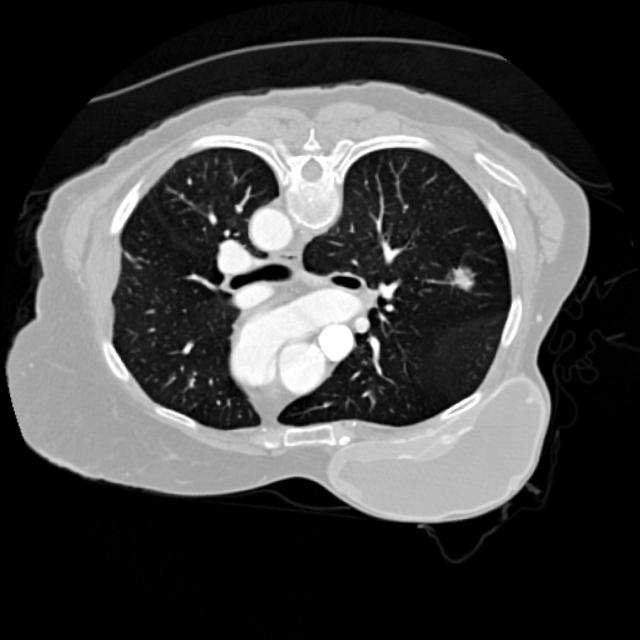nodule: (438, 253, 488, 304)
